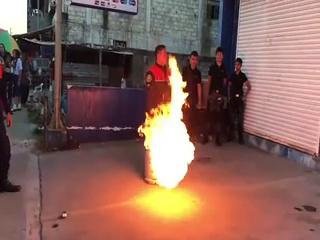Fire: (138, 67, 198, 194)
